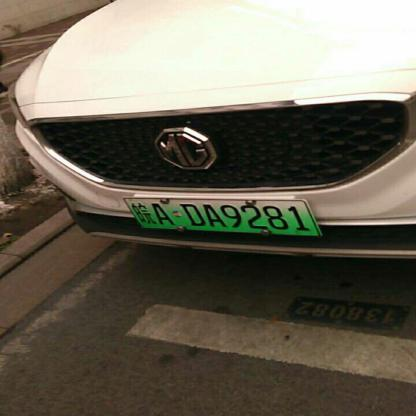lp: (122, 197, 322, 234)
